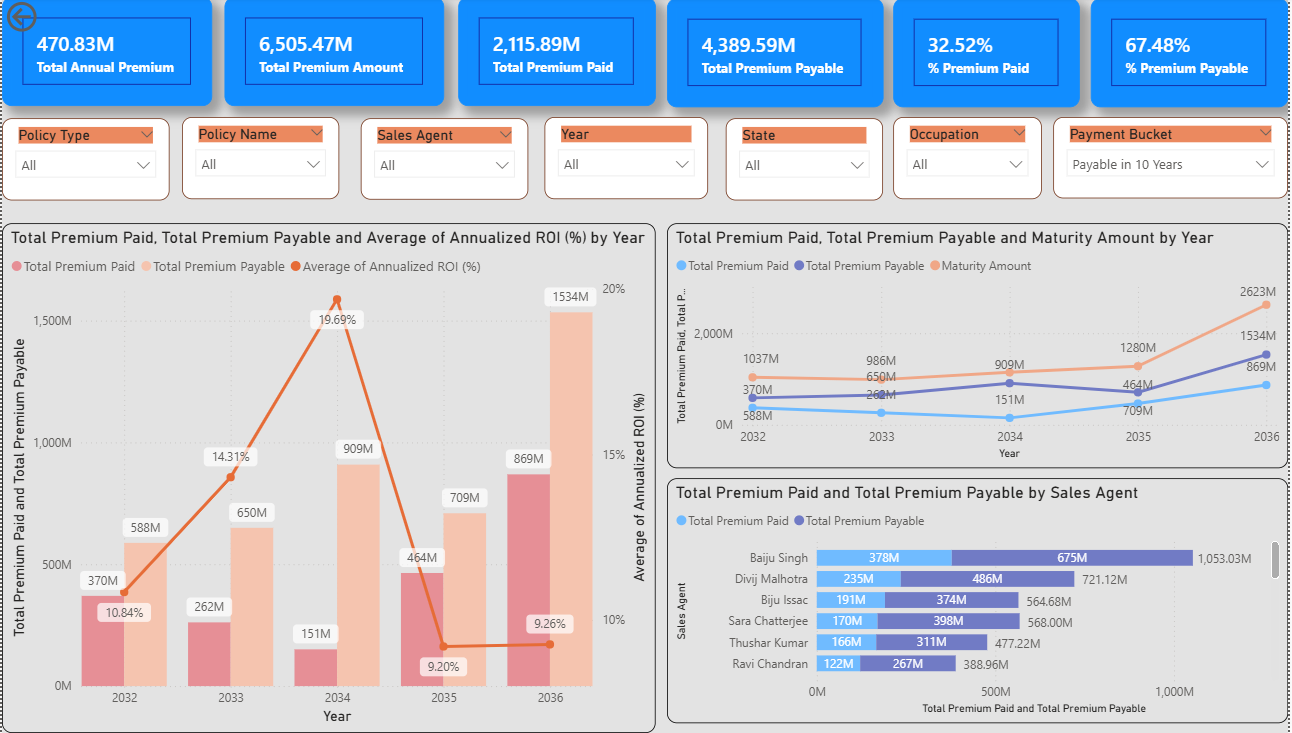

This screenshot's page, from the dashboard's own definition file:
{"tool":"powerbi","page":{"name":"Premium Analysis (5-20 Years)","canvas":[1302,745],"ordinal":7},"visuals":[{"type":"cardVisual","fields":{"Data":["Sum(FCT Insurance_Policy_Table.Total Annual Premium)"]},"box":[0,0,212.6,110.1],"z":0},{"type":"cardVisual","fields":{"Data":["Sum(FCT Insurance_Policy_Table.Total Premium Amount)"]},"box":[225.2,0,222.7,110.1],"z":1000},{"type":"cardVisual","fields":{"Data":["Sum(FCT Insurance_Policy_Table.Total Premium Paid)"]},"box":[461.8,0,199.9,110.1],"z":2000},{"type":"cardVisual","fields":{"Data":["Sum(FCT Insurance_Policy_Table.Total Premium Payable)"]},"box":[673.1,1.3,218.9,110.1],"z":3000},{"type":"cardVisual","fields":{"Data":["FCT Insurance_Policy_Table.% Premium Paid"]},"box":[902.2,1.3,188.5,110.1],"z":4000},{"type":"actionButton","box":[0,0,100,40],"z":5000},{"type":"slicer","fields":{"Values":["DM Policy_Type.Policy Type"]},"box":[0,122.7,169.5,83.5],"z":6000},{"type":"slicer","fields":{"Values":["DM Policy_Protection_Plan.Policy Name"]},"box":[182.2,121.5,159.4,83.5],"z":7000},{"type":"slicer","fields":{"Values":["DM Insurance_Agent_Table.Sales Agent"]},"box":[363.1,122.7,169.5,82.2],"z":8000},{"type":"slicer","fields":{"Values":["FCT Insurance_Policy_Table.Start Date.Variation.Date Hierarchy.Year"]},"box":[549.1,121.5,165.8,83.5],"z":9000},{"type":"slicer","fields":{"Values":["DM Customer_Detail_Table.State"]},"box":[732.6,122.7,159.4,83.5],"z":10000},{"type":"slicer","fields":{"Values":["DM Customer_Detail_Table.Occupation"]},"box":[902.2,121.5,150.6,83.5],"z":11000},{"type":"cardVisual","fields":{"Data":["FCT Insurance_Policy_Table.% Premium Payable"]},"box":[1102.1,1.3,199.9,110.1],"z":12000},{"type":"lineClusteredColumnComboChart","fields":{"Category":["FCT Insurance_Policy_Table.Tenure Date.Variation.Date Hierarchy.Year","FCT Insurance_Policy_Table.Tenure Date.Variation.Date Hierarchy.Quarter","FCT Insurance_Policy_Table.Tenure Date.Variation.Date Hierarchy.Month","FCT Insurance_Policy_Table.Tenure Date.Variation.Date Hierarchy.Day"],"Y":["Sum(FCT Insurance_Policy_Table.Total Premium Paid)","Sum(FCT Insurance_Policy_Table.Total Premium Payable)"],"Y2":["Avg(FCT Insurance_Policy_Table.Annualized ROI (%))"]},"box":[0,229,661.7,516.2],"z":13000},{"type":"slicer","fields":{"Values":["FCT Insurance_Policy_Table.Payment Bucket"]},"box":[1064.1,121.5,237.9,82.2],"z":14000},{"type":"lineChart","fields":{"Category":["FCT Insurance_Policy_Table.Tenure Date.Variation.Date Hierarchy.Year","FCT Insurance_Policy_Table.Tenure Date.Variation.Date Hierarchy.Quarter","FCT Insurance_Policy_Table.Tenure Date.Variation.Date Hierarchy.Month","FCT Insurance_Policy_Table.Tenure Date.Variation.Date Hierarchy.Day"],"Y":["Sum(FCT Insurance_Policy_Table.Total Premium Paid)","Sum(FCT Insurance_Policy_Table.Total Premium Payable)","Sum(FCT Insurance_Policy_Table.Maturity Amount)"]},"box":[673.1,229,628.9,248],"z":15000},{"type":"barChart","fields":{"Y":["Sum(FCT Insurance_Policy_Table.Total Premium Paid)","Sum(FCT Insurance_Policy_Table.Total Premium Payable)"],"Category":["DM Insurance_Agent_Table.Sales Agent"]},"box":[673.1,487.1,628.9,248],"z":16000}]}

Visuals, with their boxes in screenshot pixels (x1, y1, x2, y2), scaled from the page's 1302x745 canvas onto the 1292x733 screenshot:
cardVisual - Sum(FCT Insurance_Policy_Table.Total Annual Premium): [x1=0, y1=0, x2=211, y2=108]
cardVisual - Sum(FCT Insurance_Policy_Table.Total Premium Amount): [x1=223, y1=0, x2=444, y2=108]
cardVisual - Sum(FCT Insurance_Policy_Table.Total Premium Paid): [x1=458, y1=0, x2=657, y2=108]
cardVisual - Sum(FCT Insurance_Policy_Table.Total Premium Payable): [x1=668, y1=1, x2=885, y2=110]
cardVisual - FCT Insurance_Policy_Table.% Premium Paid: [x1=895, y1=1, x2=1082, y2=110]
actionButton: [x1=0, y1=0, x2=99, y2=39]
slicer - DM Policy_Type.Policy Type: [x1=0, y1=121, x2=168, y2=203]
slicer - DM Policy_Protection_Plan.Policy Name: [x1=181, y1=120, x2=339, y2=202]
slicer - DM Insurance_Agent_Table.Sales Agent: [x1=360, y1=121, x2=529, y2=202]
slicer - FCT Insurance_Policy_Table.Start Date.Variation.Date Hierarchy.Year: [x1=545, y1=120, x2=709, y2=202]
slicer - DM Customer_Detail_Table.State: [x1=727, y1=121, x2=885, y2=203]
slicer - DM Customer_Detail_Table.Occupation: [x1=895, y1=120, x2=1045, y2=202]
cardVisual - FCT Insurance_Policy_Table.% Premium Payable: [x1=1094, y1=1, x2=1291, y2=110]
lineClusteredColumnComboChart - FCT Insurance_Policy_Table.Tenure Date.Variation.Date Hierarchy.Year x FCT Insurance_Policy_Table.Tenure Date.Variation.Date Hierarchy.Quarter: [x1=0, y1=225, x2=657, y2=732]
slicer - FCT Insurance_Policy_Table.Payment Bucket: [x1=1056, y1=120, x2=1291, y2=200]
lineChart - FCT Insurance_Policy_Table.Tenure Date.Variation.Date Hierarchy.Year x FCT Insurance_Policy_Table.Tenure Date.Variation.Date Hierarchy.Quarter: [x1=668, y1=225, x2=1291, y2=469]
barChart - Sum(FCT Insurance_Policy_Table.Total Premium Paid) x Sum(FCT Insurance_Policy_Table.Total Premium Payable): [x1=668, y1=479, x2=1291, y2=723]
